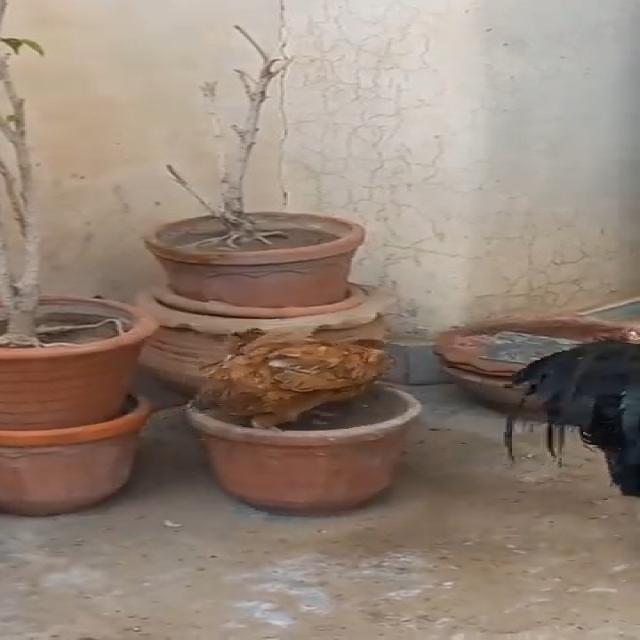stand bath: (185, 306, 427, 444)
